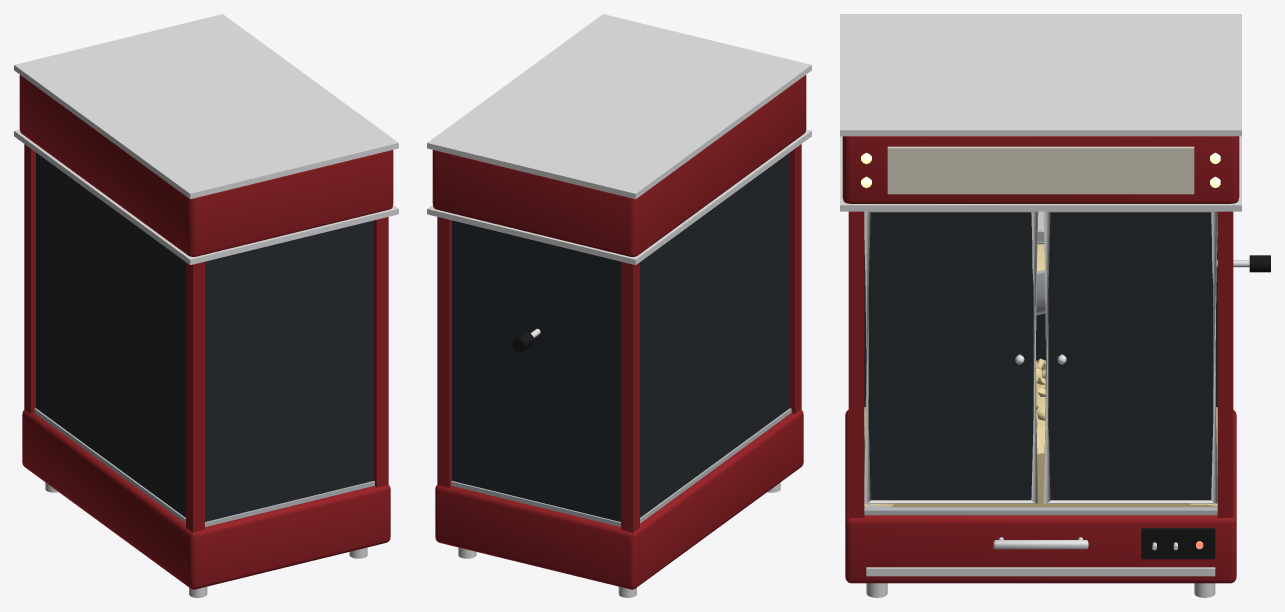
File: popcorn_kettle.glb
The picture shows the model from 3 angles, left to right: view 1: azimuth 30°, elevation 25°; view 2: azimuth 150°, elevation 25°; view 3: azimuth 270°, elevation 25°; orthographic projection. The views are drawn at different scales.
Visible parts, largest first — view 1: Glass_LOD0.001, Glass_LOD0, Crown_LOD0, Base_LOD0, Header_LOD0, Post_LOD0, Post_LOD0.002, Ceiling_LOD0, Post_LOD0.001, Deck_LOD0; view 2: Glass_LOD0.002, Glass_LOD0, Crown_LOD0, Base_LOD0, Header_LOD0, Post_LOD0.001, Post_LOD0.003, Ceiling_LOD0, Post_LOD0, Deck_LOD0; view 3: Crown_LOD0, DoorGlass_LOD0, DoorGlass_LOD0.001, Base_LOD0, SignBed_LOD0, Header_LOD0, Post_LOD0.002, Post_LOD0.003, DoorFrame_LOD0.001, DoorFrame_LOD0, Ceiling_LOD0, Kick_LOD0 (+5 smaller).
Part boxes in pixels (x1,y1,x2,y2): Glass_LOD0.001: (205, 220, 373, 521); Glass_LOD0: (36, 152, 185, 517); Crown_LOD0: (14, 14, 398, 199); Base_LOD0: (22, 410, 390, 589); Header_LOD0: (19, 75, 393, 256); Post_LOD0: (186, 261, 204, 532); Post_LOD0.002: (374, 217, 388, 487); Ceiling_LOD0: (14, 129, 398, 265); Post_LOD0.001: (24, 144, 35, 413); Deck_LOD0: (34, 408, 374, 526); Glass_LOD0.002: (452, 220, 620, 521); Glass_LOD0: (640, 152, 789, 517); Crown_LOD0: (427, 14, 811, 199); Base_LOD0: (435, 410, 803, 589); Header_LOD0: (432, 75, 806, 256); Post_LOD0.001: (621, 261, 639, 533); Post_LOD0.003: (437, 217, 451, 487); Ceiling_LOD0: (427, 129, 811, 265); Post_LOD0: (790, 144, 801, 413); Deck_LOD0: (451, 408, 791, 526); Crown_LOD0: (840, 14, 1241, 136); DoorGlass_LOD0: (868, 212, 1033, 500); DoorGlass_LOD0.001: (1048, 212, 1213, 500); Base_LOD0: (845, 410, 1236, 583); SignBed_LOD0: (887, 146, 1194, 194); Header_LOD0: (842, 136, 1239, 203); Post_LOD0.002: (848, 211, 864, 518); Post_LOD0.003: (1217, 211, 1233, 518); DoorFrame_LOD0.001: (1043, 211, 1217, 503); DoorFrame_LOD0: (864, 211, 1038, 503); Ceiling_LOD0: (840, 136, 1241, 211); Kick_LOD0: (866, 567, 1215, 576).
Size of the model in its own units: 0.542 by 0.995 by 0.815.
